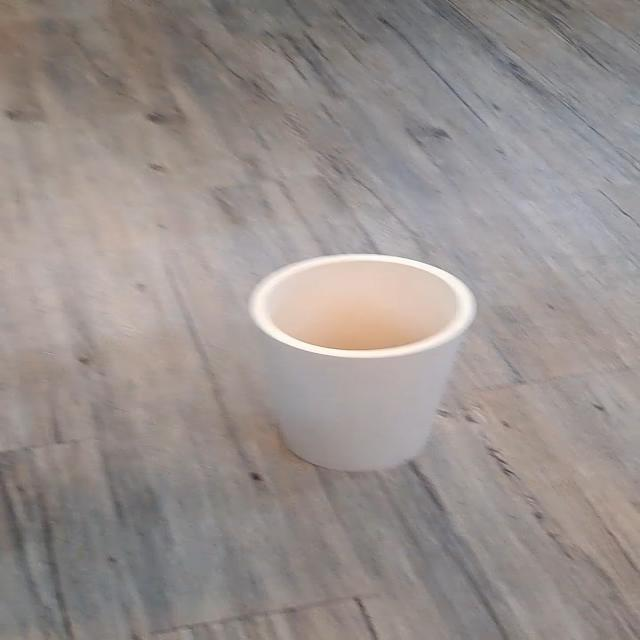CORAL: (199, 239, 480, 478)
